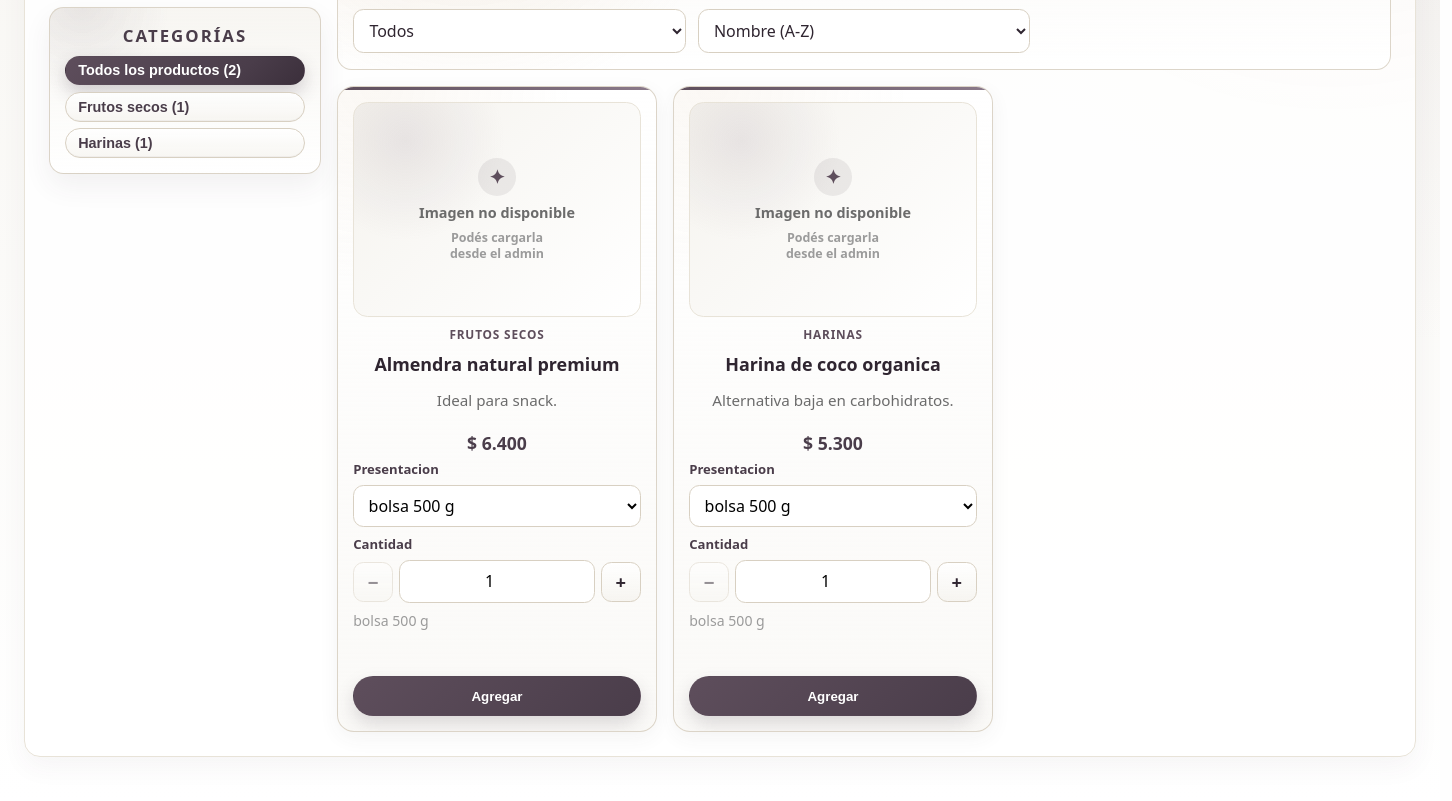
Scenario: App checkout MVP flow › keeps home catalog add-to-cart updating the shared cart badge
The width and height of the screenshot is (1452, 801).
(page scrolled)
Check: the heading "Almendra natural premium" is shown, box [353, 353, 641, 377]
Check: the element named "Almendra natural premium" is shown, box [337, 86, 657, 732]
Click the button "Agregar" below "$ 6.400": (497, 696) [353, 676, 641, 716]
(page scrolled)
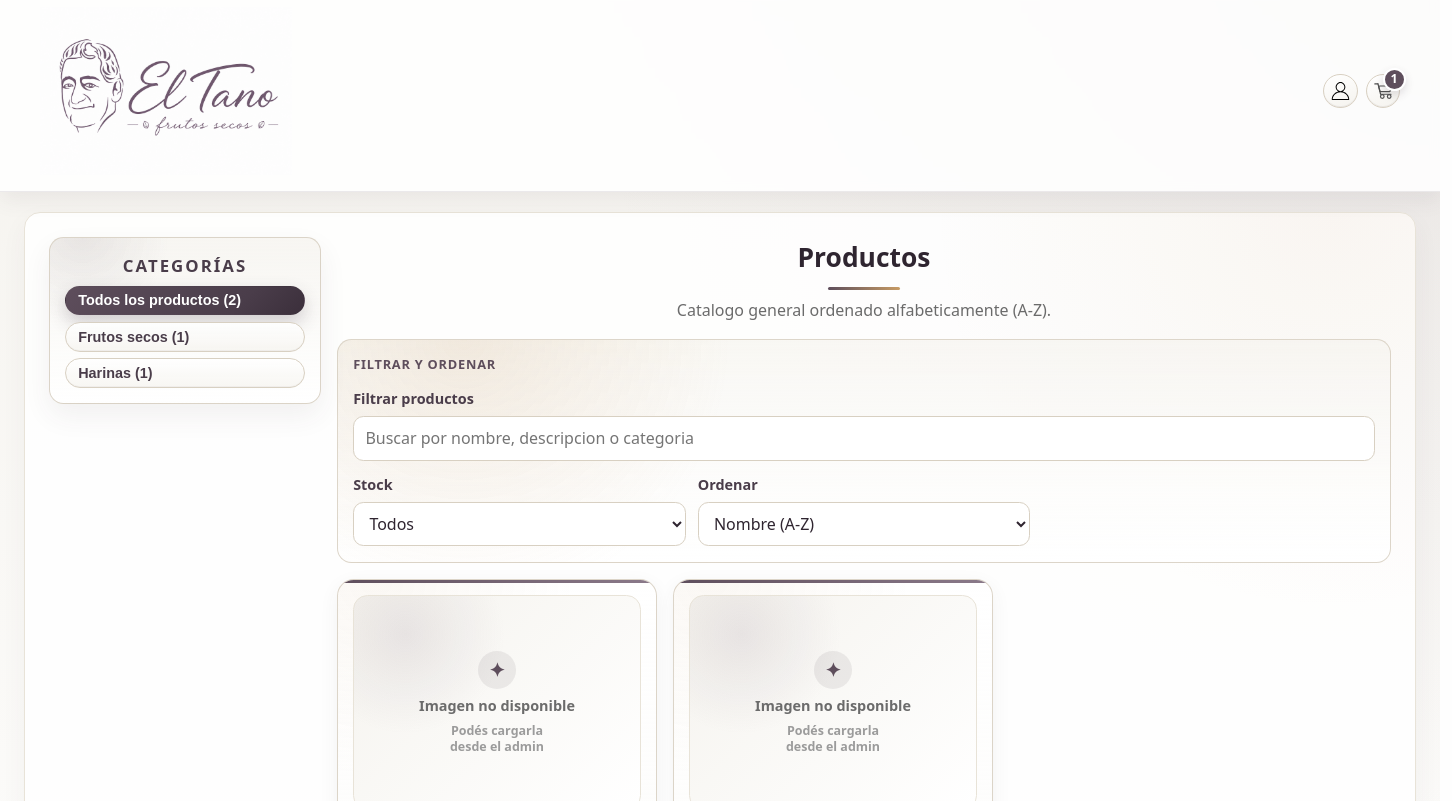
Check: the link named "Ver carrito, 1 item" reads "1", box [1366, 74, 1400, 108]
